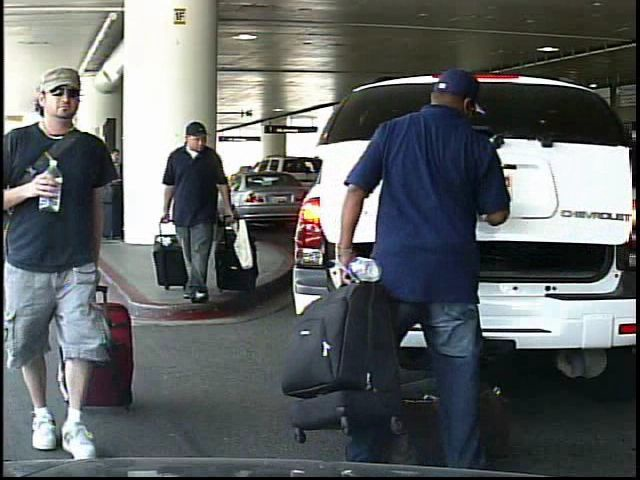person: (336, 74, 527, 475), (5, 71, 150, 467), (157, 116, 251, 306)
